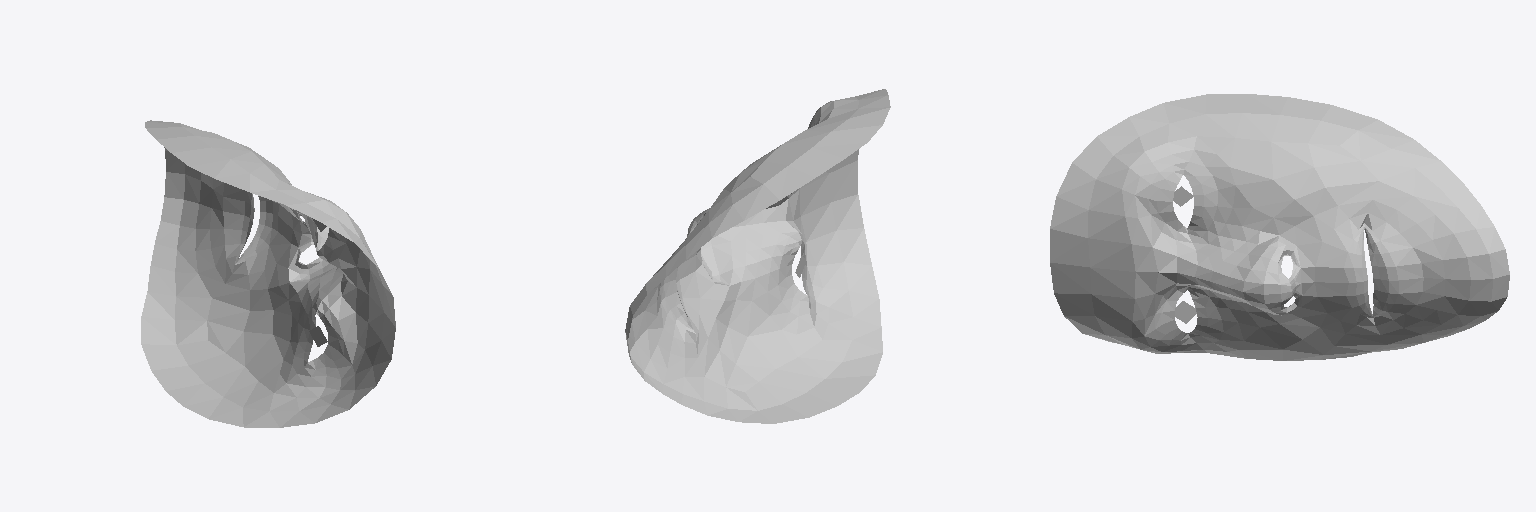
The model's file is FaceMesh-holes-478.obj.
3 views of the same model, side by side, from view 1: azimuth 30°, elevation 25°; view 2: azimuth 150°, elevation 25°; view 3: azimuth 270°, elevation 25° (orthographic).
Parts seen in each view (by area): view 1: sepp.obj; view 2: sepp.obj; view 3: sepp.obj.
Boxes of the visible parts, box(x1,y1,x2,y2) form: sepp.obj: box(141, 120, 395, 427); sepp.obj: box(625, 89, 890, 423); sepp.obj: box(1050, 94, 1509, 360).
Bounding box in the file's own units: 0.1344 × 0.19 × 0.3215.